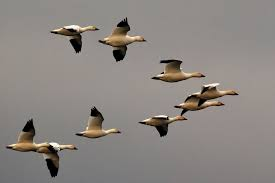goose: (96, 16, 148, 63), (6, 117, 54, 155), (74, 105, 122, 140), (38, 140, 78, 180), (48, 23, 99, 54), (148, 56, 206, 83), (175, 91, 226, 117), (137, 115, 189, 139), (195, 82, 240, 109)
